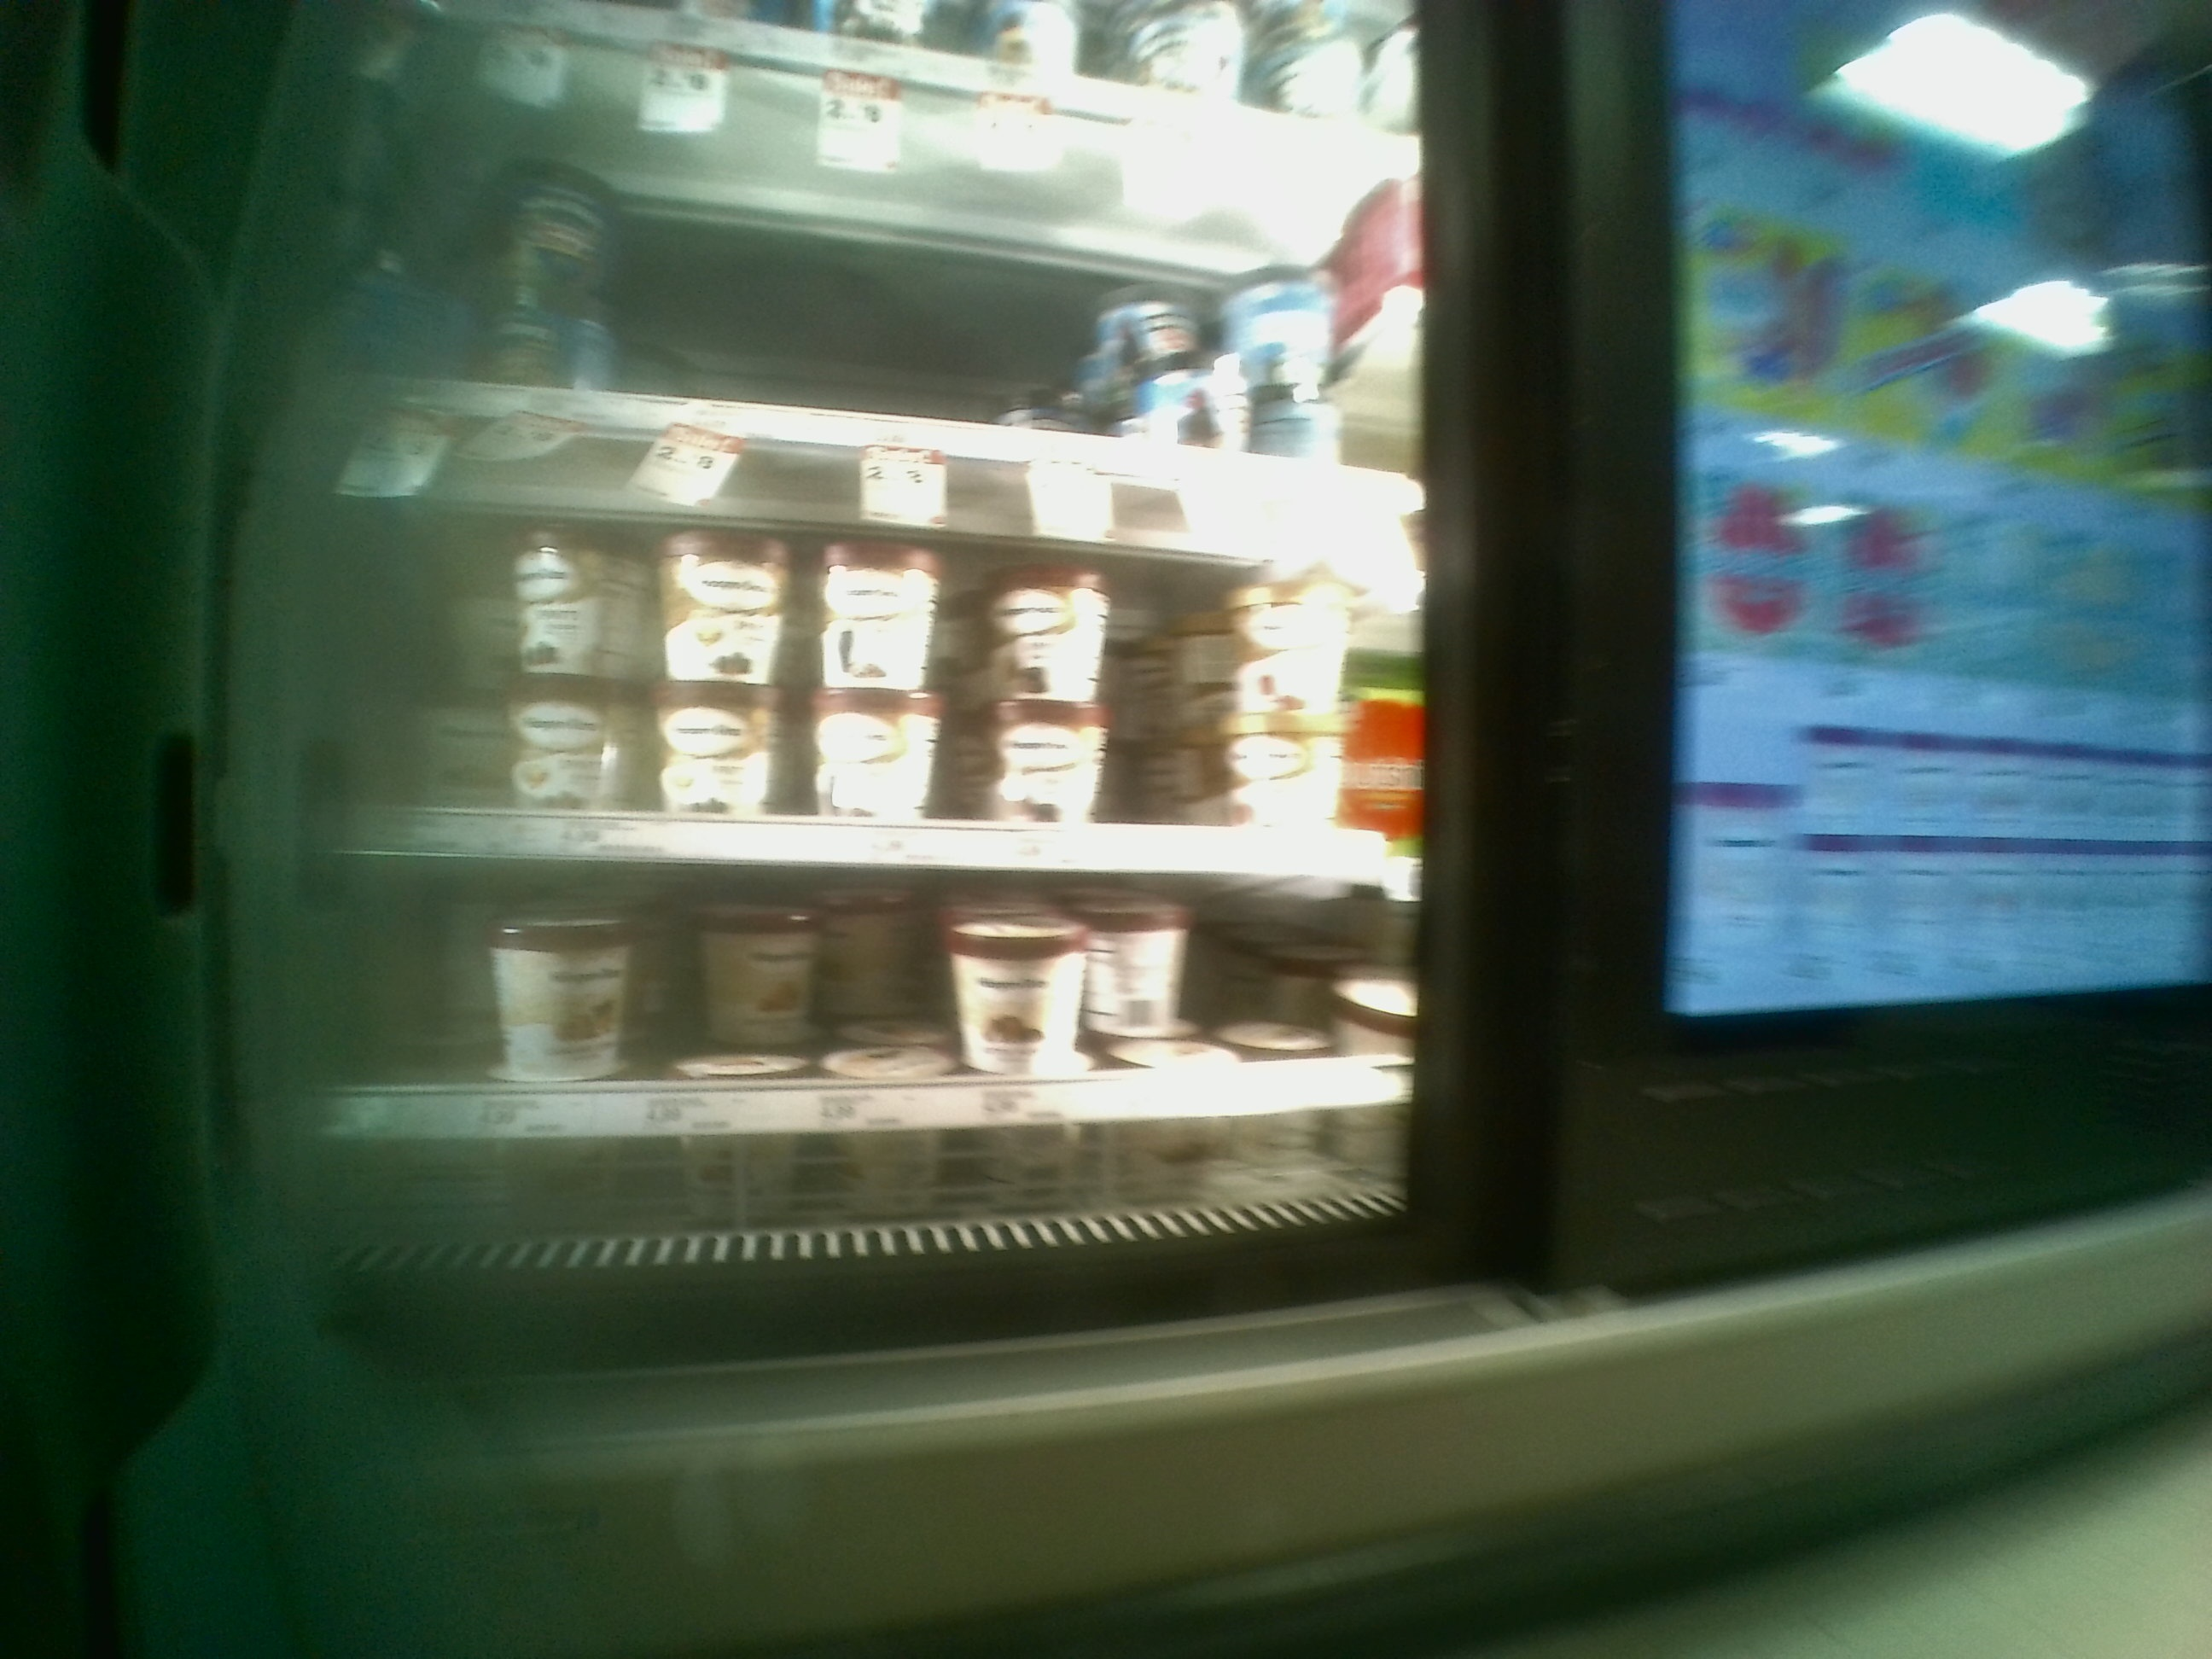shelf: (320, 415, 1406, 863), (331, 863, 1411, 1201)
